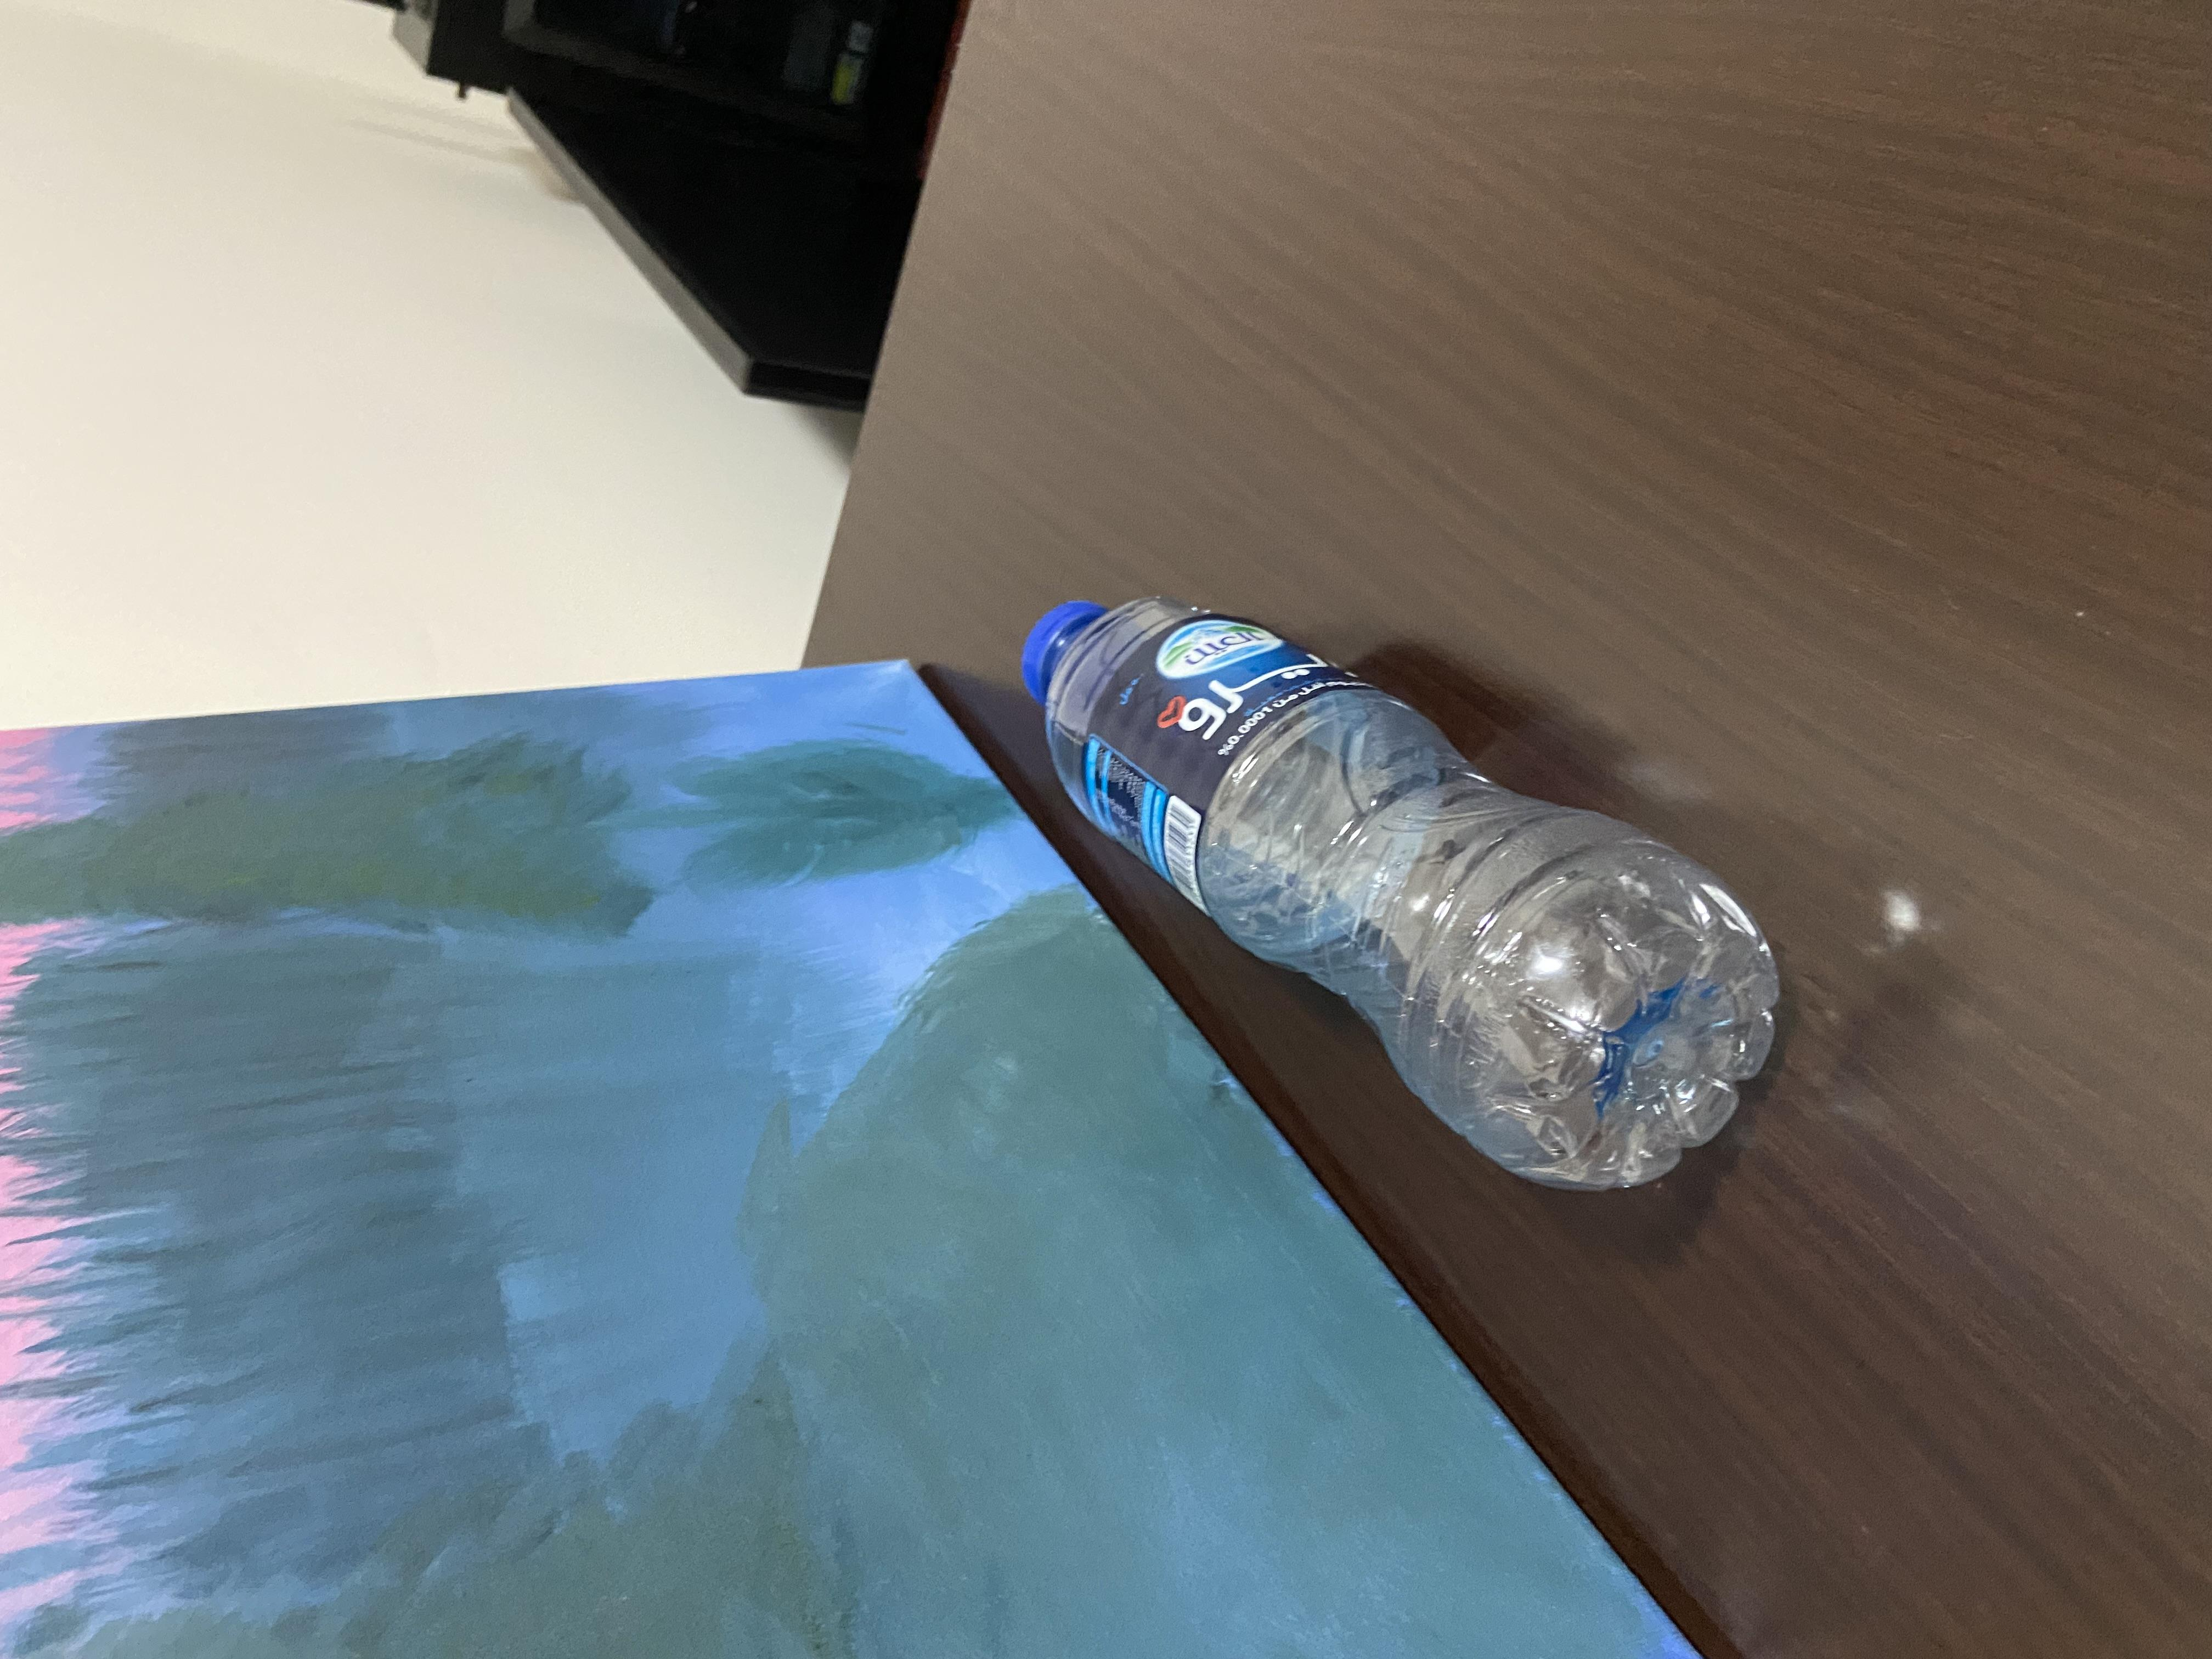bottle: (577, 716, 1503, 1378)
